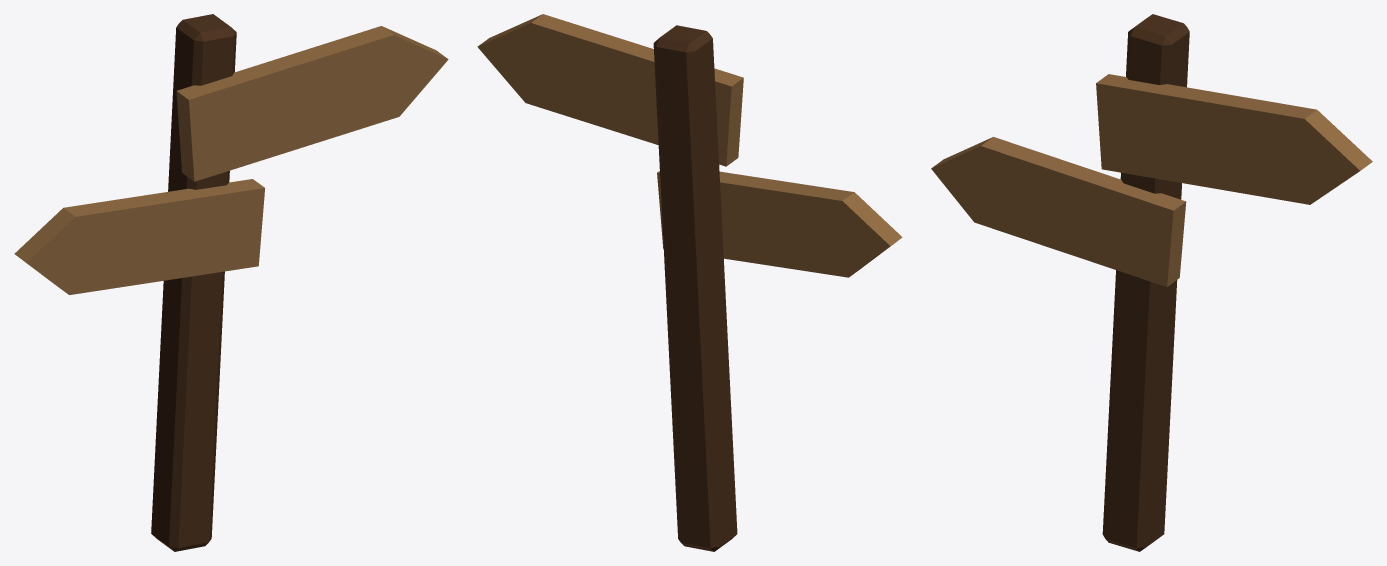
The model's file is signpost.glb.
3 views of the same model, side by side, from view 1: azimuth 30°, elevation 25°; view 2: azimuth 150°, elevation 25°; view 3: azimuth 330°, elevation 25° (orthographic). The views are drawn at different scales.
Parts seen in each view (by area): view 1: signpost; view 2: signpost; view 3: signpost.
Boxes of the visible parts, box(x1,y1,x2,y2) form: signpost: box(14, 14, 448, 551); signpost: box(477, 14, 902, 551); signpost: box(931, 14, 1372, 551).
Size of the model in its own units: 1.38 by 1.6 by 0.195.
